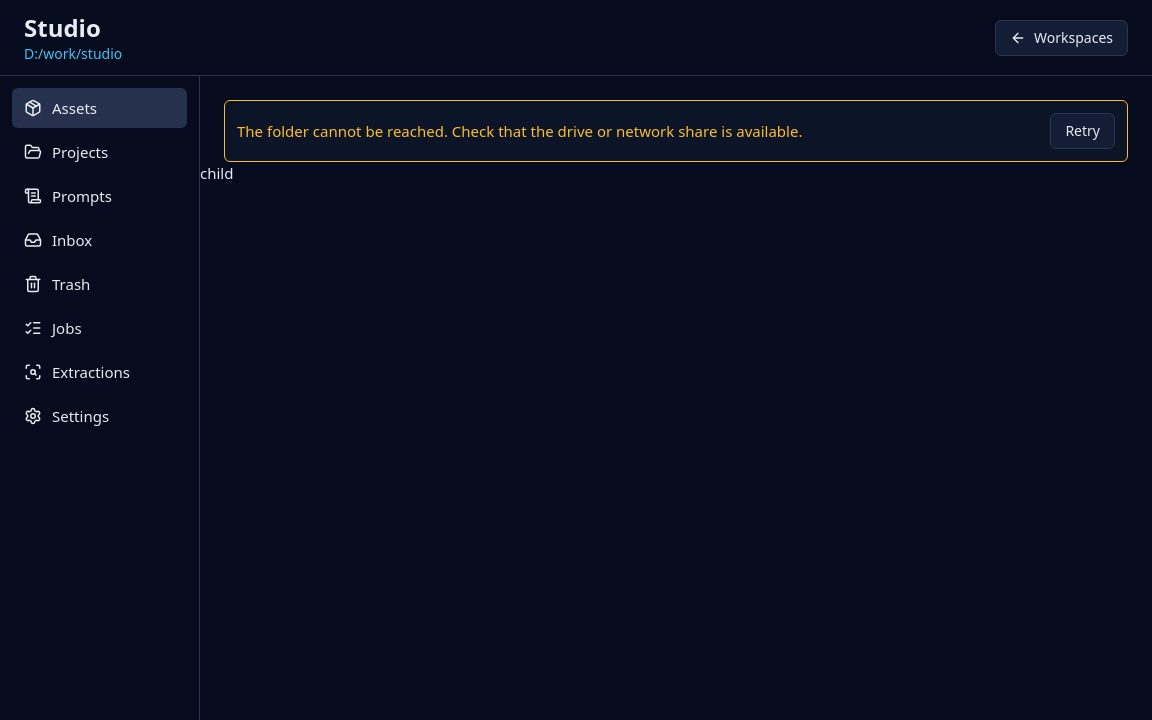
Test: a storage_unreachable failure shows the banner and Retry remounts the page
Expected: the message shows "cannot be reached", [237, 121, 802, 141]
Click the button "Retry" at (1083, 131), box [1050, 113, 1115, 149]
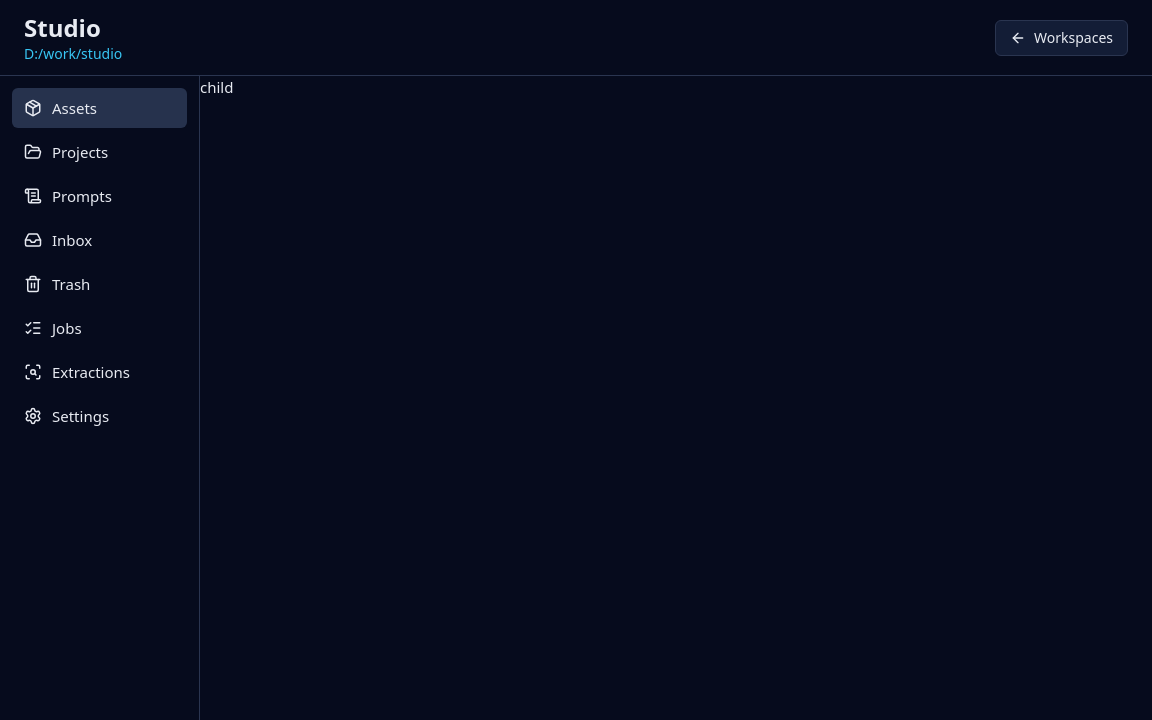
Expected: the message is gone
